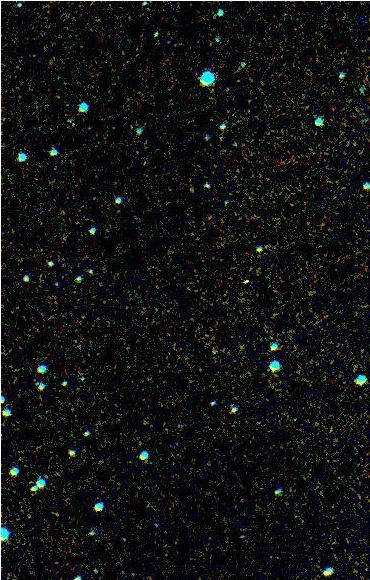star: (232, 269, 262, 299)
